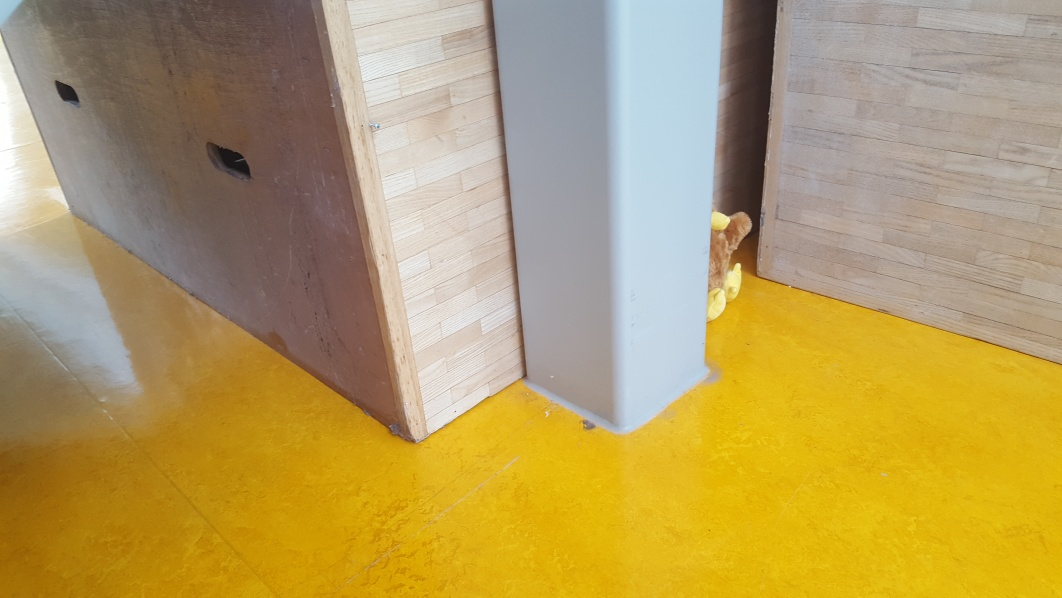chicken: (708, 206, 753, 321)
